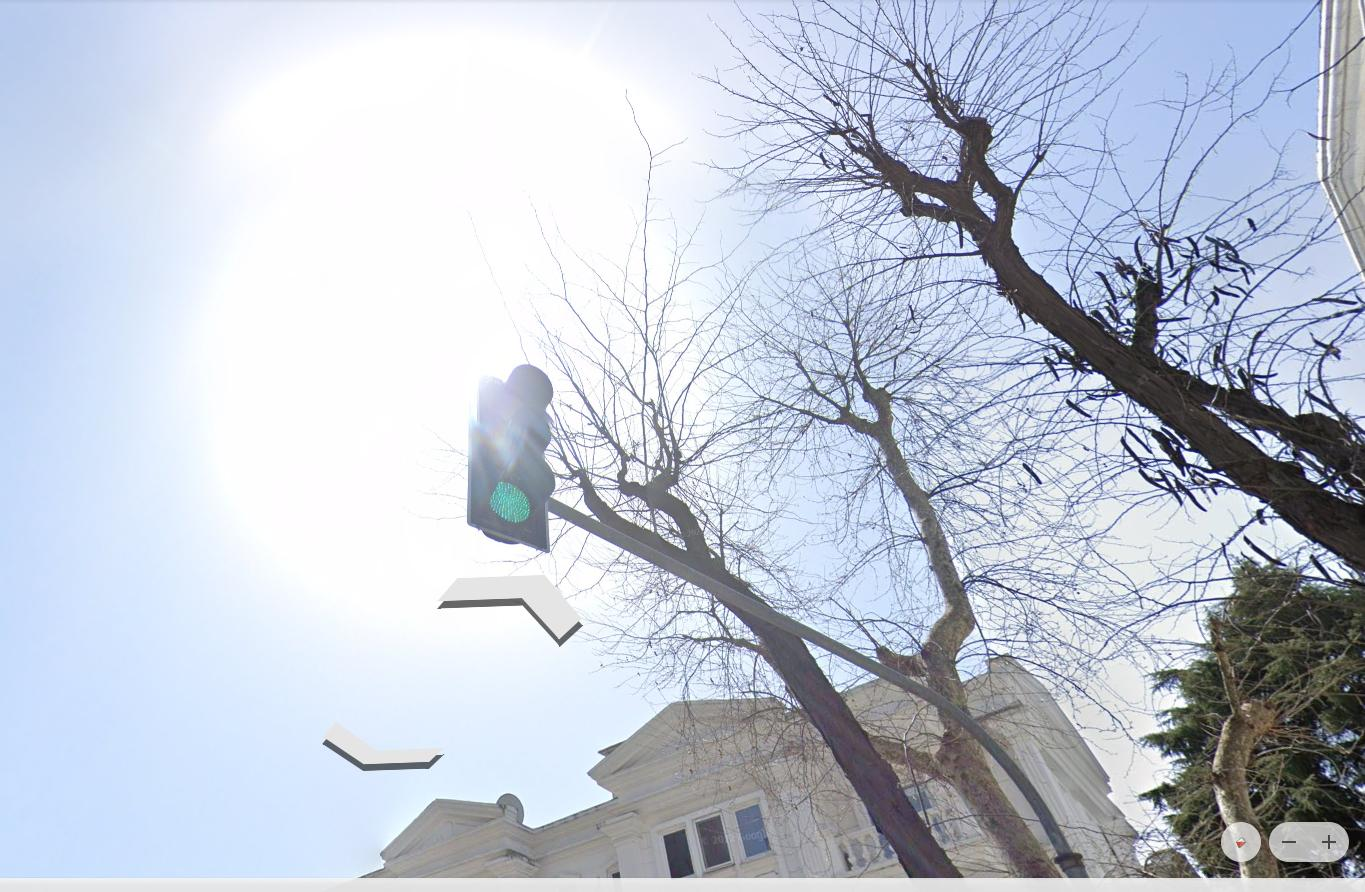greenlight: (476, 365, 552, 533)
